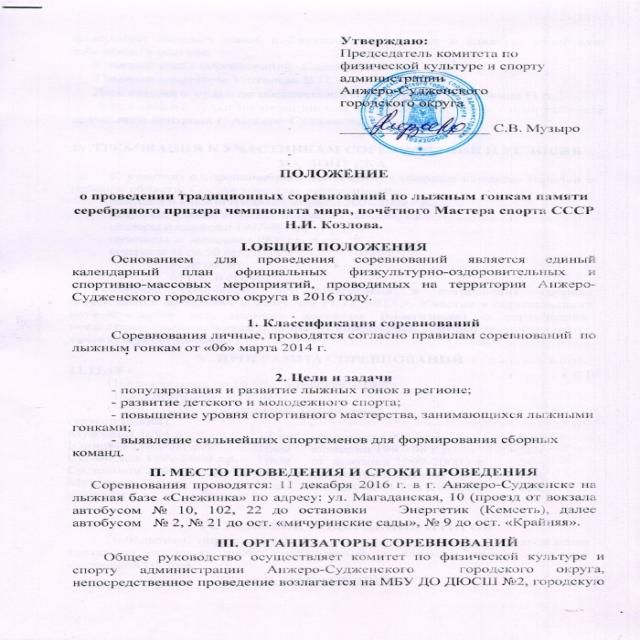stamps: (247, 38, 511, 173)
